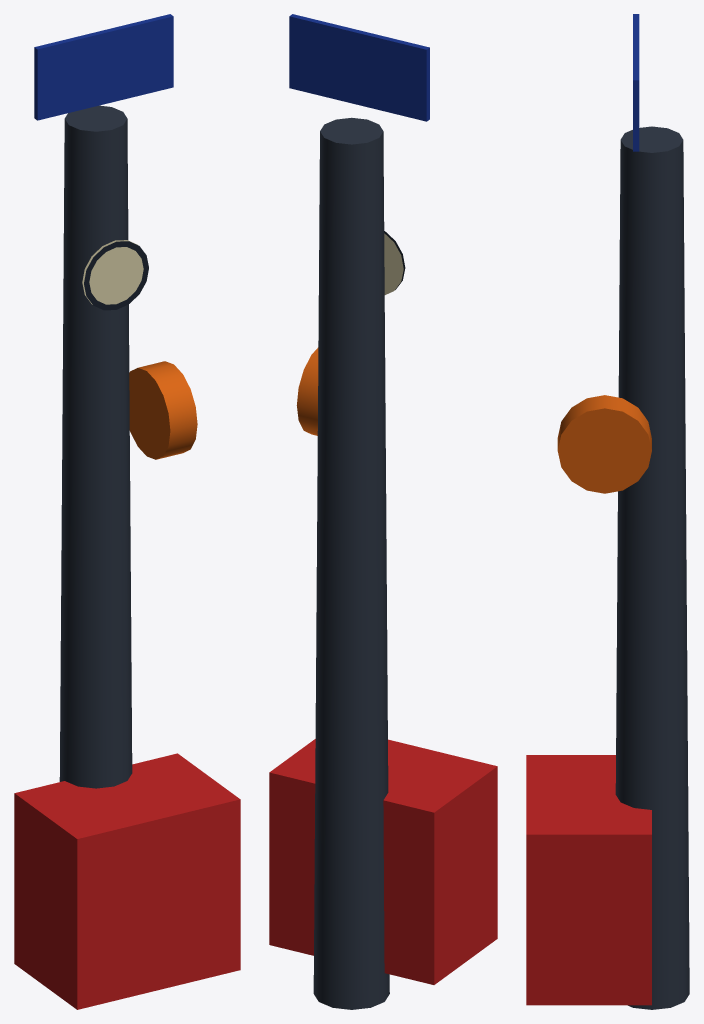
Rendered from yard-air-hose-body-crafted-surface.glb.
3 views of the same model, side by side, from view 1: azimuth 30°, elevation 25°; view 2: azimuth 150°, elevation 25°; view 3: azimuth 270°, elevation 25° (orthographic).
Visible parts, largest first — view 1: Authored shadows false:false; view 2: Authored shadows false:false; view 3: Authored shadows false:false.
Boxes of the visible parts, left/top/right/bottom form: Authored shadows false:false: left=14, top=14, right=240, bottom=1009; Authored shadows false:false: left=269, top=14, right=497, bottom=1009; Authored shadows false:false: left=526, top=14, right=689, bottom=1009.
Size of the model in its own units: 0.1805 by 1 by 0.1564.
